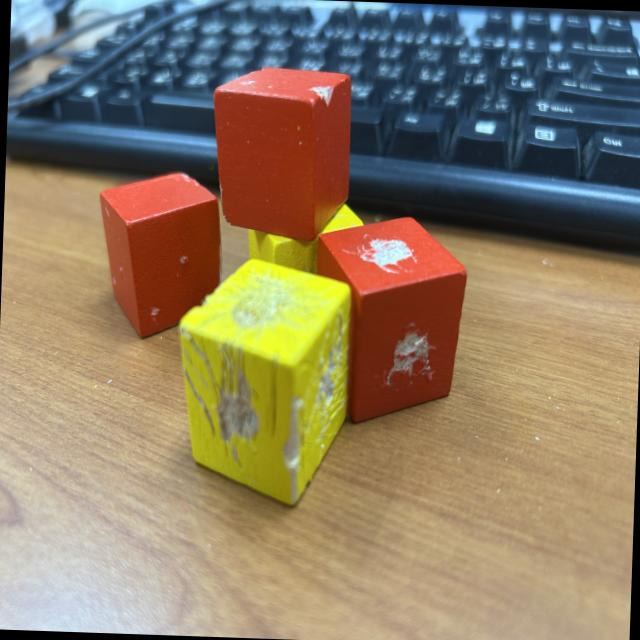broken: (172, 254, 352, 506), (311, 212, 468, 426), (208, 64, 354, 243), (94, 168, 226, 340), (243, 193, 366, 335)
